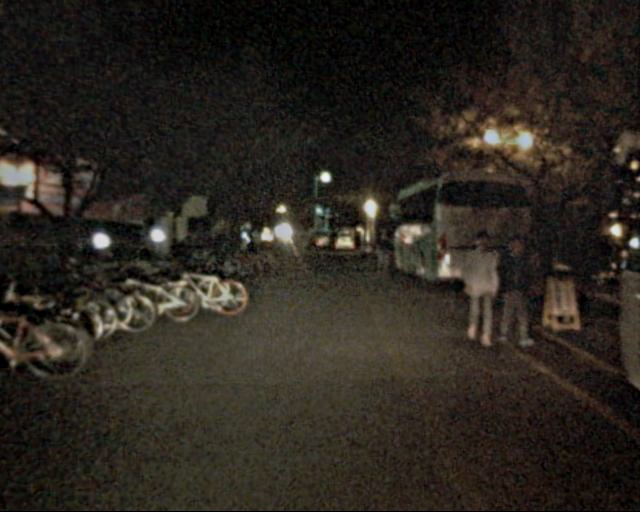person: (452, 234, 499, 348), (490, 231, 536, 342), (370, 228, 393, 285), (248, 230, 262, 263)
